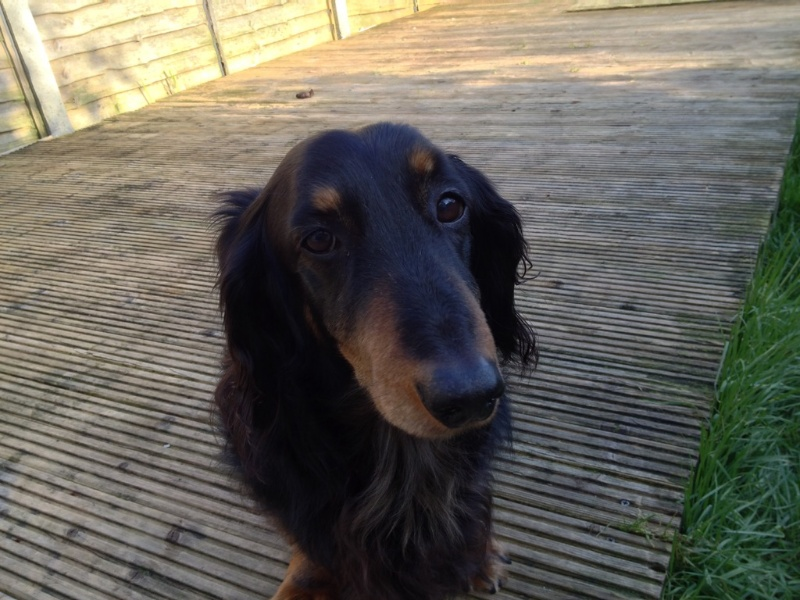dog: (205, 115, 542, 600)
